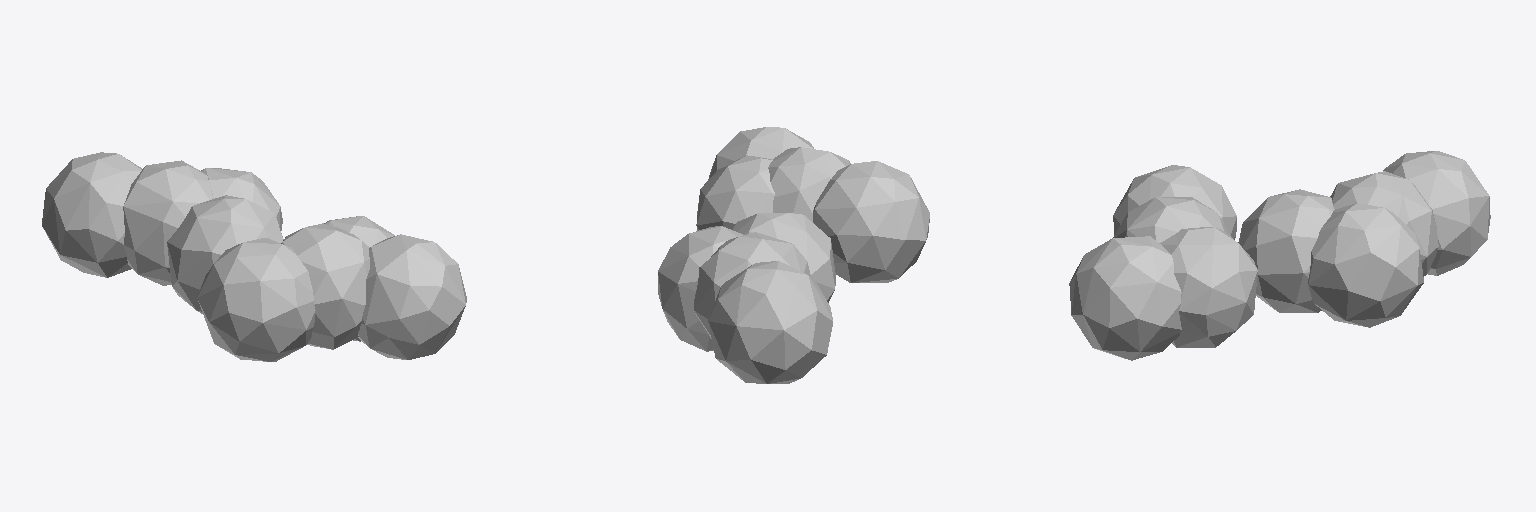
Rendered from could_lannd.obj.
3 views of the same model, side by side, from view 1: azimuth 30°, elevation 25°; view 2: azimuth 150°, elevation 25°; view 3: azimuth 270°, elevation 25° (orthographic).
Visible parts, largest first — view 1: Sphere.001; view 2: Sphere.001; view 3: Sphere.001.
Part boxes in pixels (x1,y1,x2,y2): Sphere.001: (42,152,466,361); Sphere.001: (658,127,929,383); Sphere.001: (1069,151,1490,360).
Size of the model in its own units: 4.79 by 2.21 by 6.77.